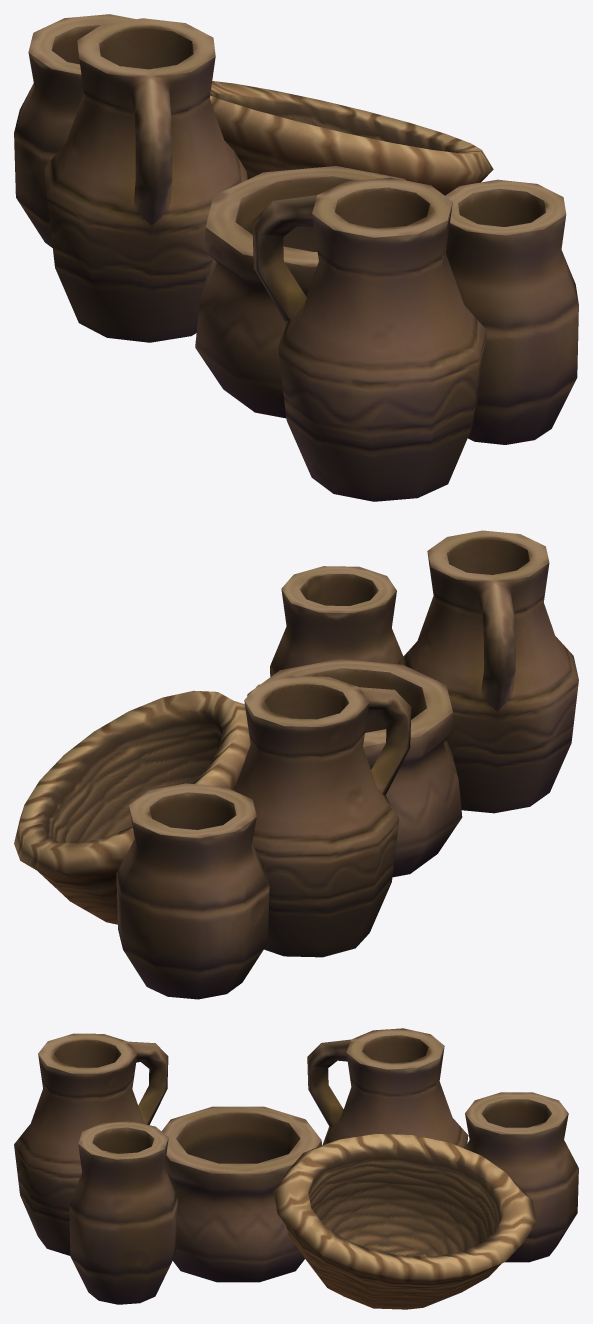
The model's file is MSH_tdFV_Pottery_Group_1.fbx.
3 renders of one model, top to bottom at view 1: azimuth 30°, elevation 25°; view 2: azimuth 150°, elevation 25°; view 3: azimuth 270°, elevation 25°, orthographic. The views are drawn at different scales.
Visible parts, largest first — view 1: MSH_tdFV_Pottery_Group_1_LOD0; view 2: MSH_tdFV_Pottery_Group_1_LOD0; view 3: MSH_tdFV_Pottery_Group_1_LOD0.
Boxes of the visible parts, box(x1,y1,x2,y2) form: MSH_tdFV_Pottery_Group_1_LOD0: box(14, 14, 578, 501); MSH_tdFV_Pottery_Group_1_LOD0: box(14, 530, 578, 999); MSH_tdFV_Pottery_Group_1_LOD0: box(14, 1028, 578, 1309).
Size of what is drawn, in the model's own units: 1.56 by 1.06 by 2.75.
